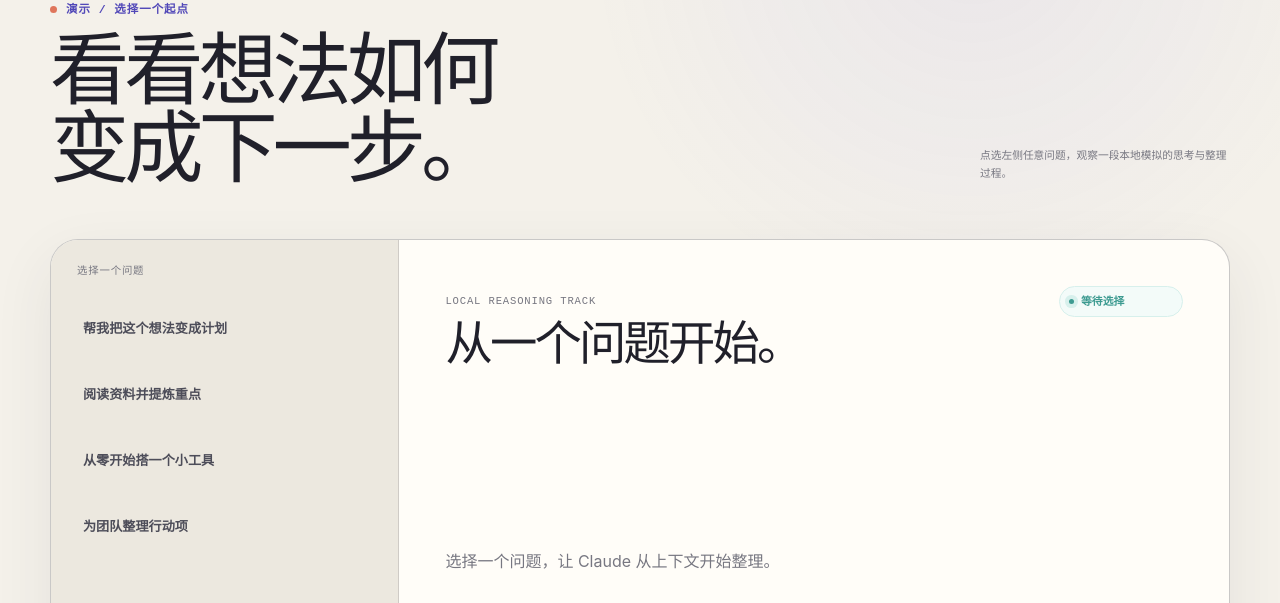
Test case: DemoConsole › progresses from thinking to responding to complete
The image size is (1280, 603).
What coordinates should you click on to do the following:
click the button "帮我把这个想法变成计划"
I would click on:
 (225, 328)
Its box is x1=69 y1=299 x2=380 y2=357.
Wait 3400 ms
(page scrolled)
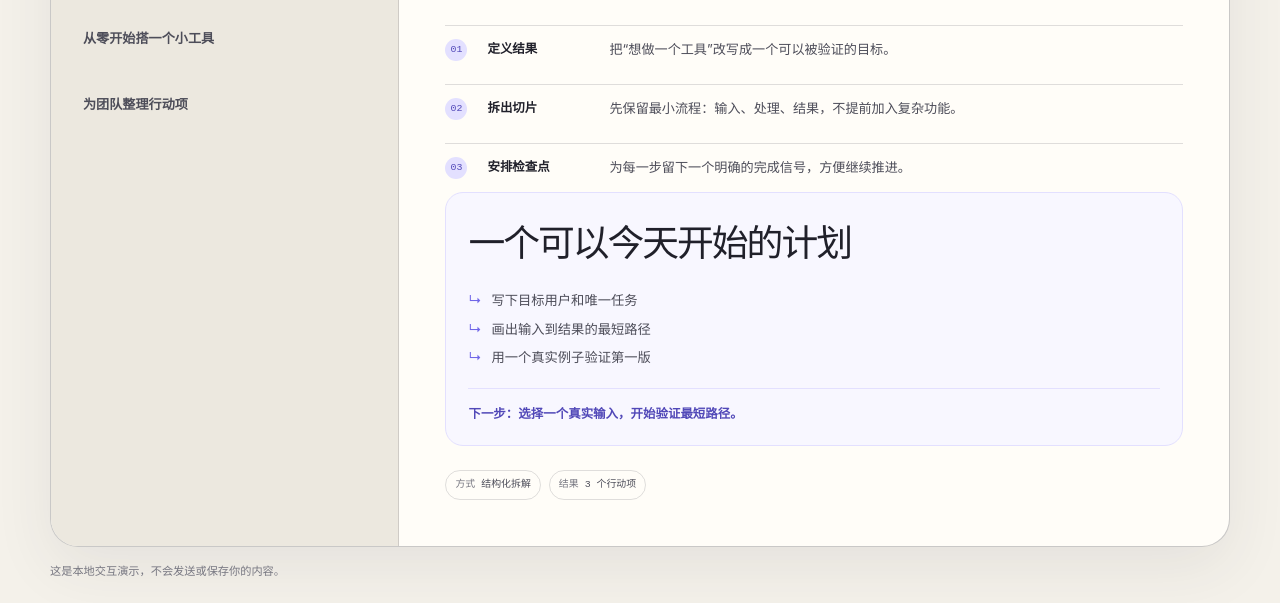
Check: the heading "一个可以今天开始的计划" is shown, box x1=468 y1=223 x2=851 y2=264
